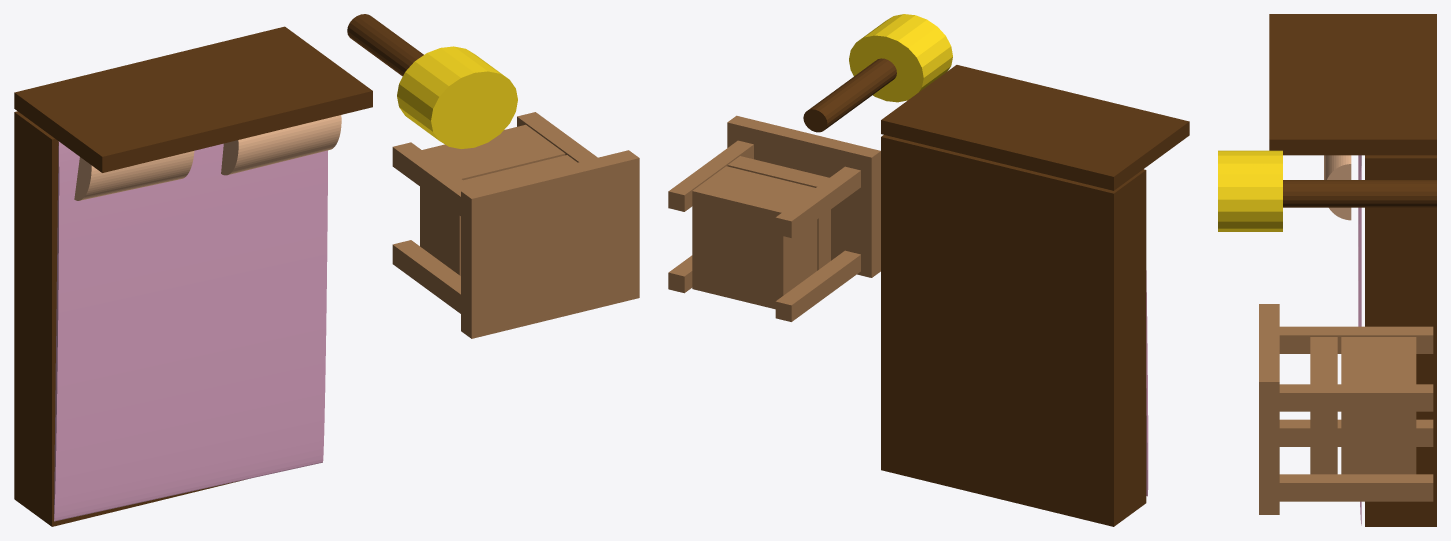
The model's file is tinker.obj.
3 renders of one model, left to right at view 1: azimuth 30°, elevation 25°; view 2: azimuth 150°, elevation 25°; view 3: azimuth 270°, elevation 25°, orthographic. The views are drawn at different scales.
Visible parts, largest first — view 1: group_0_15708628, group_0_6306067, group_0_11107152, group_0_16768282, group_0_16500122; view 2: group_0_6306067, group_0_11107152, group_0_16768282; view 3: group_0_6306067, group_0_11107152, group_0_16768282, group_0_16500122, group_0_15708628.
Part boxes in pixels (bbox=[...]): group_0_15708628: bbox=[54, 141, 327, 521]; group_0_6306067: bbox=[14, 14, 423, 526]; group_0_11107152: bbox=[392, 112, 639, 338]; group_0_16768282: bbox=[397, 46, 517, 148]; group_0_16500122: bbox=[74, 115, 341, 200]; group_0_6306067: bbox=[803, 58, 1189, 526]; group_0_11107152: bbox=[668, 115, 880, 321]; group_0_16768282: bbox=[849, 14, 952, 102]; group_0_6306067: bbox=[1269, 14, 1436, 526]; group_0_11107152: bbox=[1259, 304, 1433, 514]; group_0_16768282: bbox=[1218, 150, 1282, 231]; group_0_16500122: bbox=[1324, 155, 1351, 220]; group_0_15708628: bbox=[1358, 155, 1361, 525].
Bounding box in the file's own units: 171 × 131 × 64.
